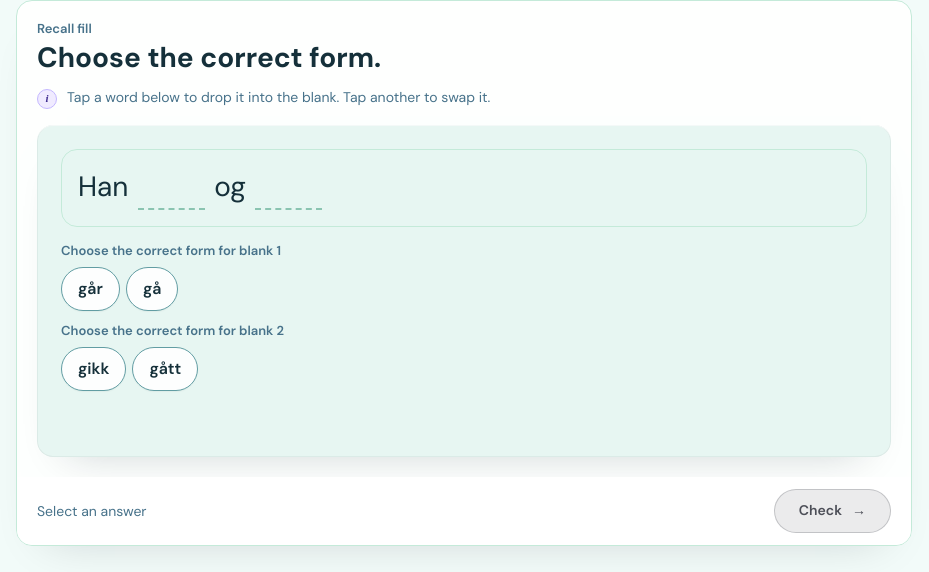
Test: FlashCardRecallFill › handles multiple blanks independently
Click the radio button labelled "går" at x=90, y=289, box [61, 267, 120, 311]
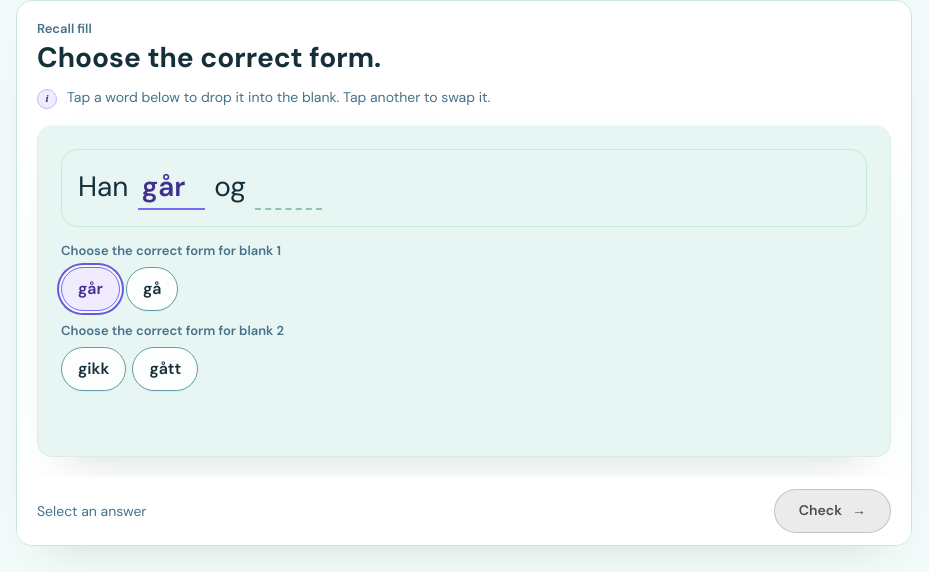
Click the radio button labelled "gikk" at x=94, y=369, box [61, 347, 126, 391]
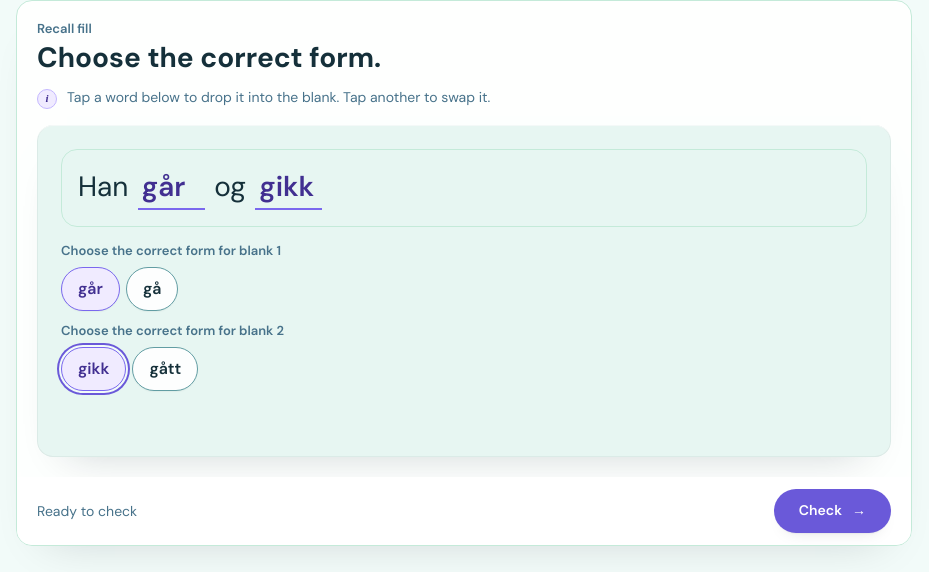
Expected: the element with test id "blank-fill" reads "går", [142, 168, 185, 205]
Expected: the element with test id "blank-fill" reads "gikk", [259, 168, 314, 205]
Expected: the button "Check →" is enabled, [774, 489, 891, 533]
